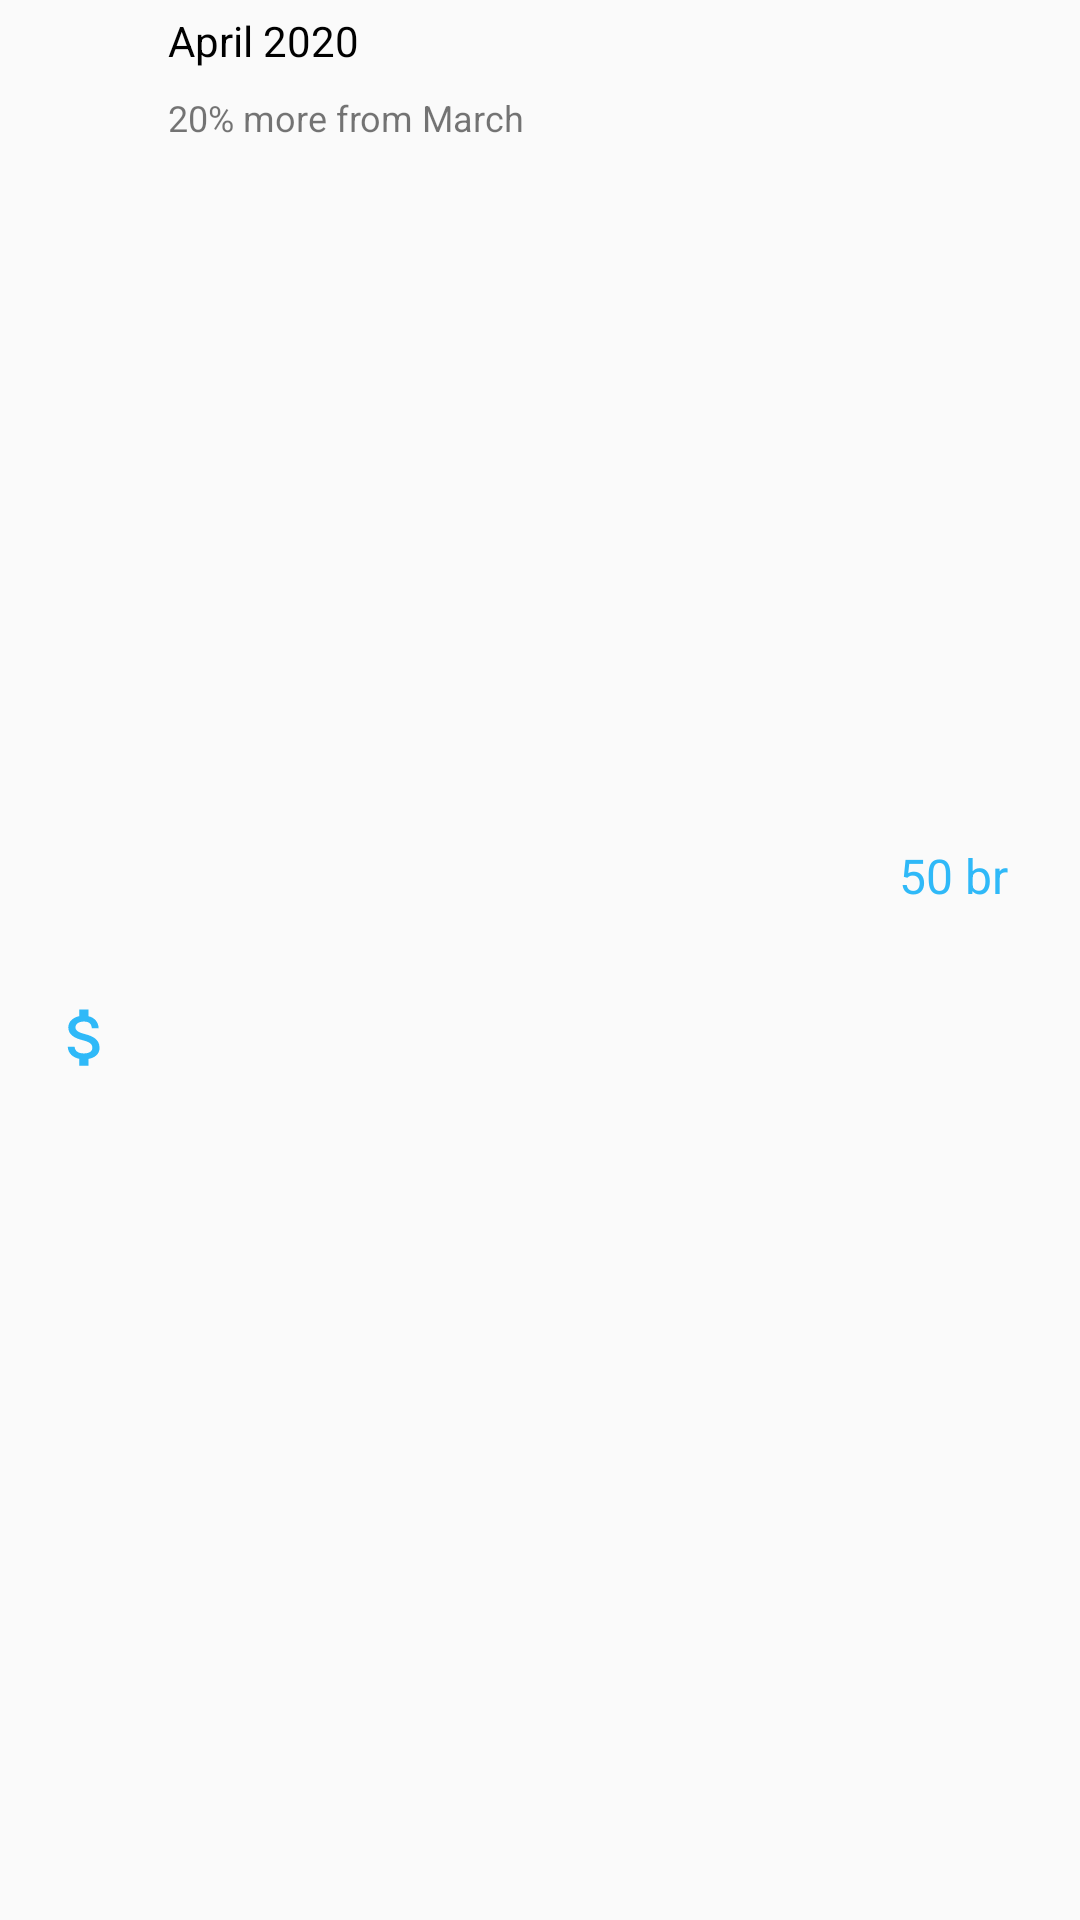

Where to tap for icons on this 1080w x 1920h app screen, as (x=x, y=y):
attach money: (x=83, y=1037)
